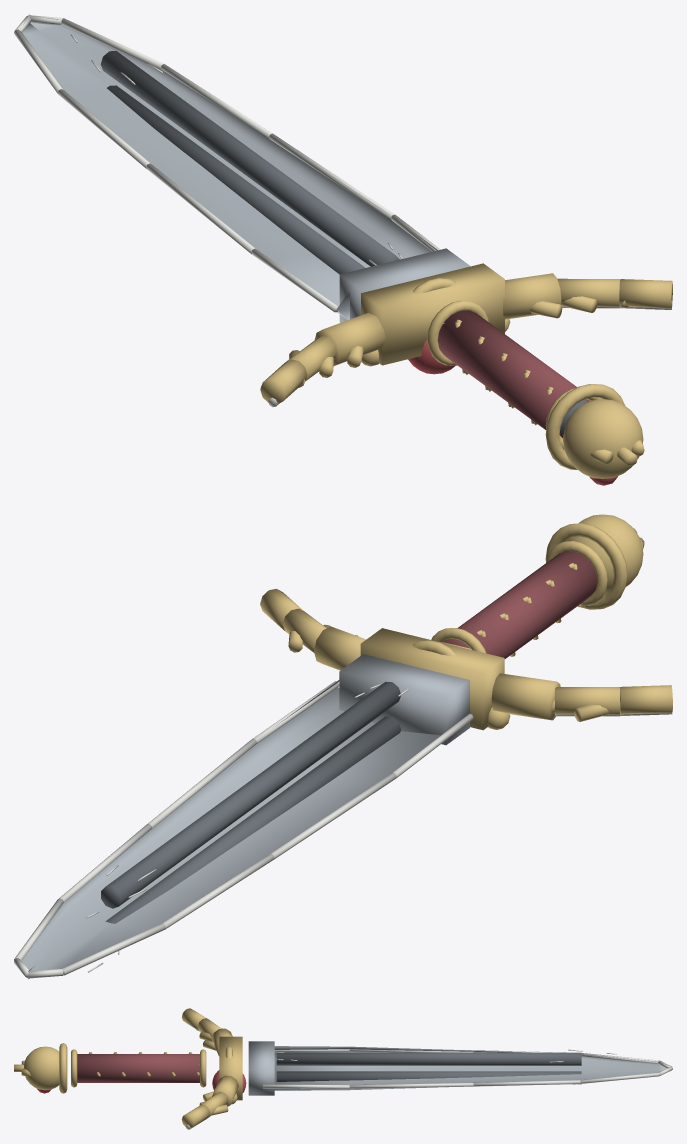
3 views of the same model, one above another, from view 1: azimuth 30°, elevation 25°; view 2: azimuth 150°, elevation 25°; view 3: azimuth 270°, elevation 25° (orthographic). The views are drawn at different scales.
Visible parts, largest first — view 1: gold, steel, black, edge, wrap, gem; view 2: steel, gold, black, edge, wrap; view 3: steel, black, gold, wrap, edge, gem.
Boxes of the visible parts, bbox=[...] form: gold: bbox=[260, 263, 672, 478]; steel: bbox=[22, 14, 470, 322]; black: bbox=[100, 51, 587, 434]; edge: bbox=[14, 15, 672, 406]; wrap: bbox=[437, 310, 590, 437]; gem: bbox=[408, 339, 617, 485]; steel: bbox=[21, 654, 469, 979]; gold: bbox=[260, 514, 672, 730]; black: bbox=[101, 681, 401, 923]; edge: bbox=[14, 681, 672, 978]; wrap: bbox=[442, 551, 597, 658]; steel: bbox=[248, 1041, 671, 1095]; black: bbox=[276, 1052, 581, 1084]; gold: bbox=[14, 1008, 242, 1128]; wrap: bbox=[77, 1054, 199, 1082]; edge: bbox=[185, 1023, 672, 1129]; gem: bbox=[36, 1070, 246, 1093].
Bounding box in the file's own units: 2.9 × 0.6551 × 7.35.
